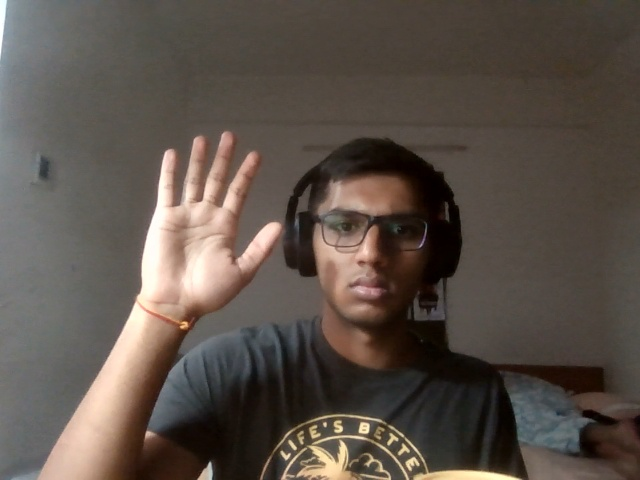hello: (127, 130, 295, 325)
